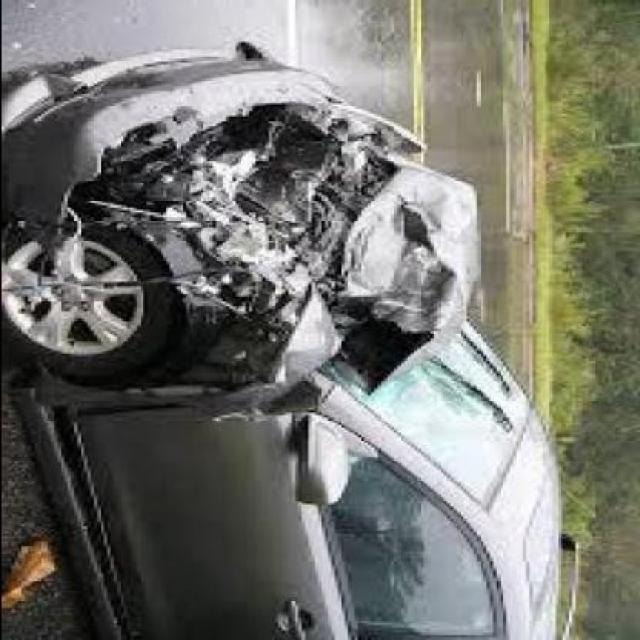damage: (3, 84, 481, 420)
